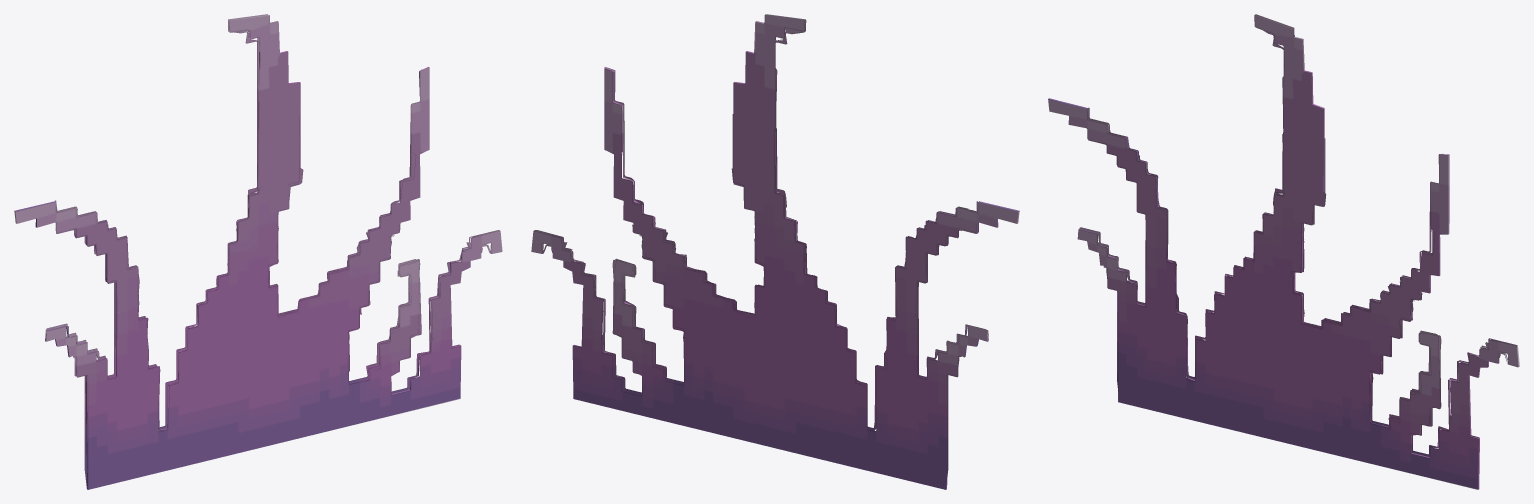
Rendered from Grass.fbx.
The picture shows the model from 3 angles, left to right: view 1: azimuth 30°, elevation 25°; view 2: azimuth 150°, elevation 25°; view 3: azimuth 330°, elevation 25°; orthographic projection. The views are drawn at different scales.
Visible parts, largest first — view 1: Cube; view 2: Cube; view 3: Cube.
Part boxes in pixels (x1,y1,x2,y2): Cube: [14, 14, 502, 489]; Cube: [531, 14, 1019, 489]; Cube: [1048, 14, 1519, 489].
Bounding box in the file's own units: 377 × 322 × 1.53.
